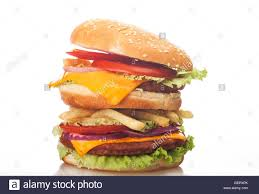hamburger: (50, 17, 196, 173)
